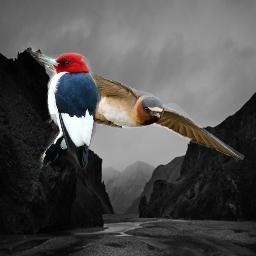Swallow: (19, 43, 245, 160)
Woodpecker: (38, 49, 101, 172)
